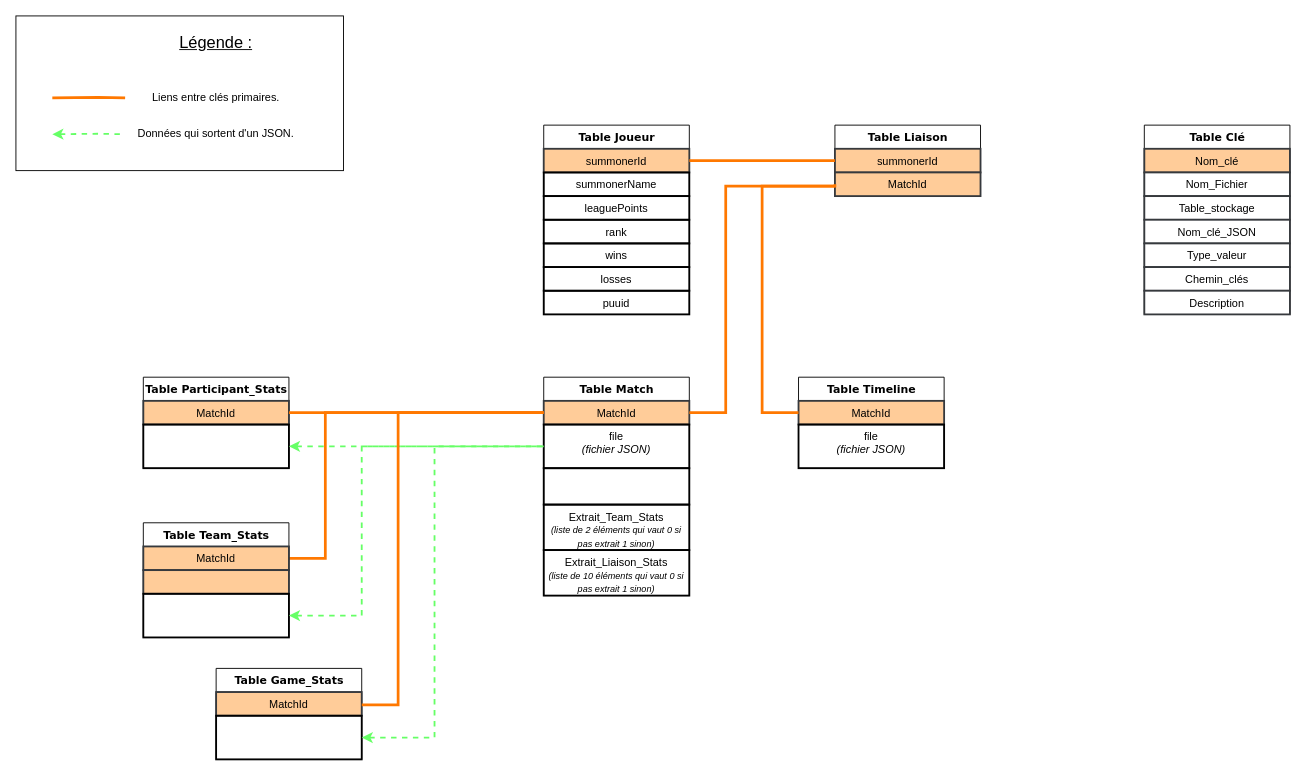
This 1307x778 diagram has some shape labels left out. Each missing label, with the centre of its shape:
"Extrait_Game_Stats (vaut 0 si pas extrait 1 sinon)" belongs at (x=616, y=486).
"Side" belongs at (x=215, y=581).
"Voir fichier game_stats.txt" belongs at (x=215, y=446).
"Voir fichier liaison_stats.txt" belongs at (x=288, y=737).
"Voir fichier team_stats.txt" belongs at (x=215, y=615).
